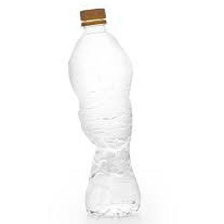bottle: (63, 6, 150, 221)
